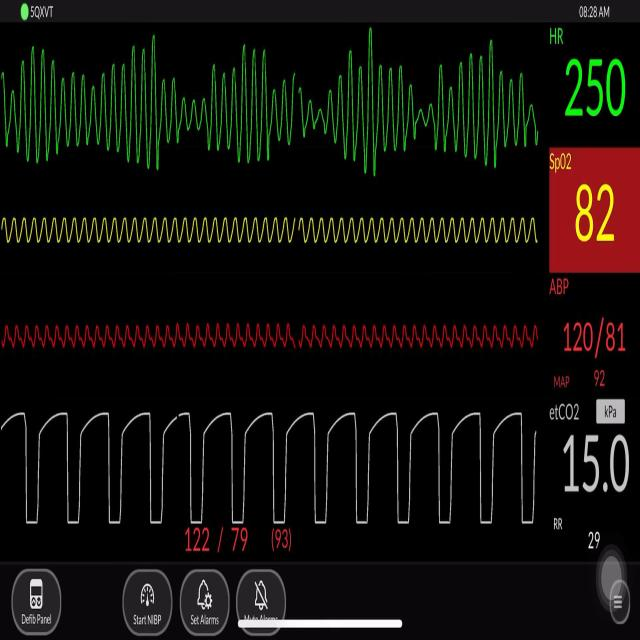danger: (2, 32, 543, 191)
